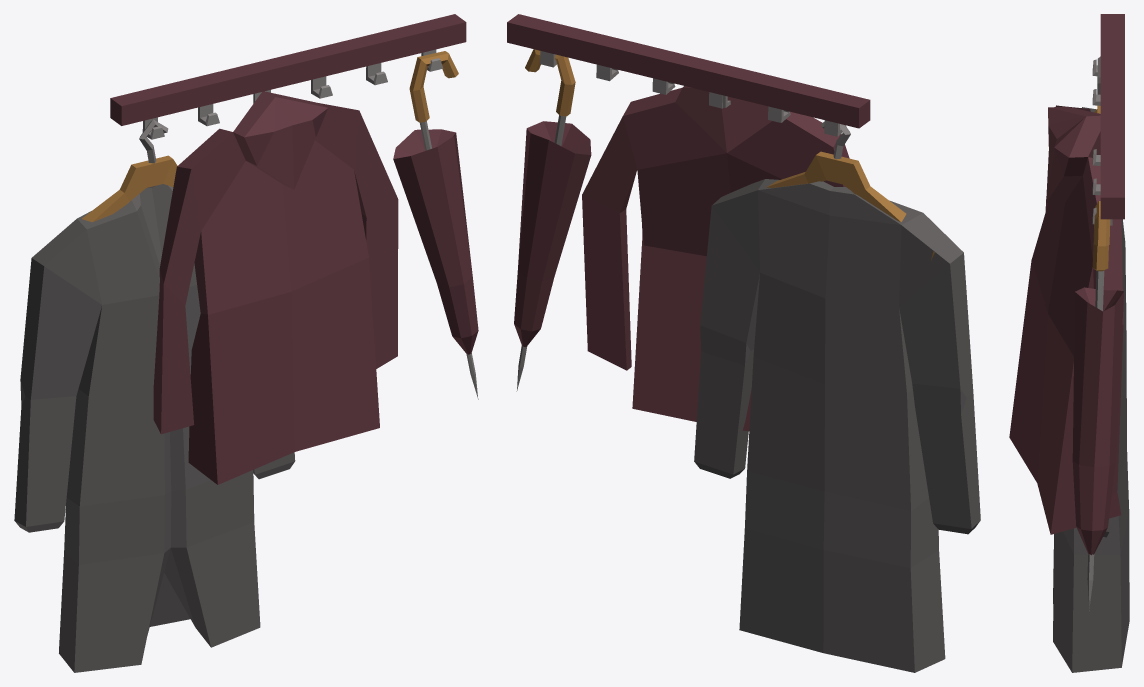
Rendered from furniture-hanger-wall-clothes-a.glb.
3 renders of one model, left to right at view 1: azimuth 30°, elevation 25°; view 2: azimuth 150°, elevation 25°; view 3: azimuth 270°, elevation 25°, orthographic. The views are drawn at different scales.
Visible parts, largest first — view 1: hanger-wall-clothes-a; view 2: hanger-wall-clothes-a; view 3: hanger-wall-clothes-a.
Boxes of the visible parts, x1=… form: hanger-wall-clothes-a: x1=14, y1=14, x2=478, y2=672; hanger-wall-clothes-a: x1=507, y1=14, x2=980, y2=672; hanger-wall-clothes-a: x1=1009, y1=14, x2=1129, y2=672.
Bounding box in the file's own units: 0.954 × 1.09 × 0.2003.
